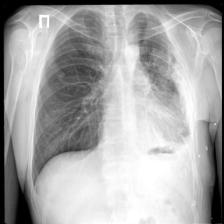tuberculosis: (27, 7, 201, 198)
